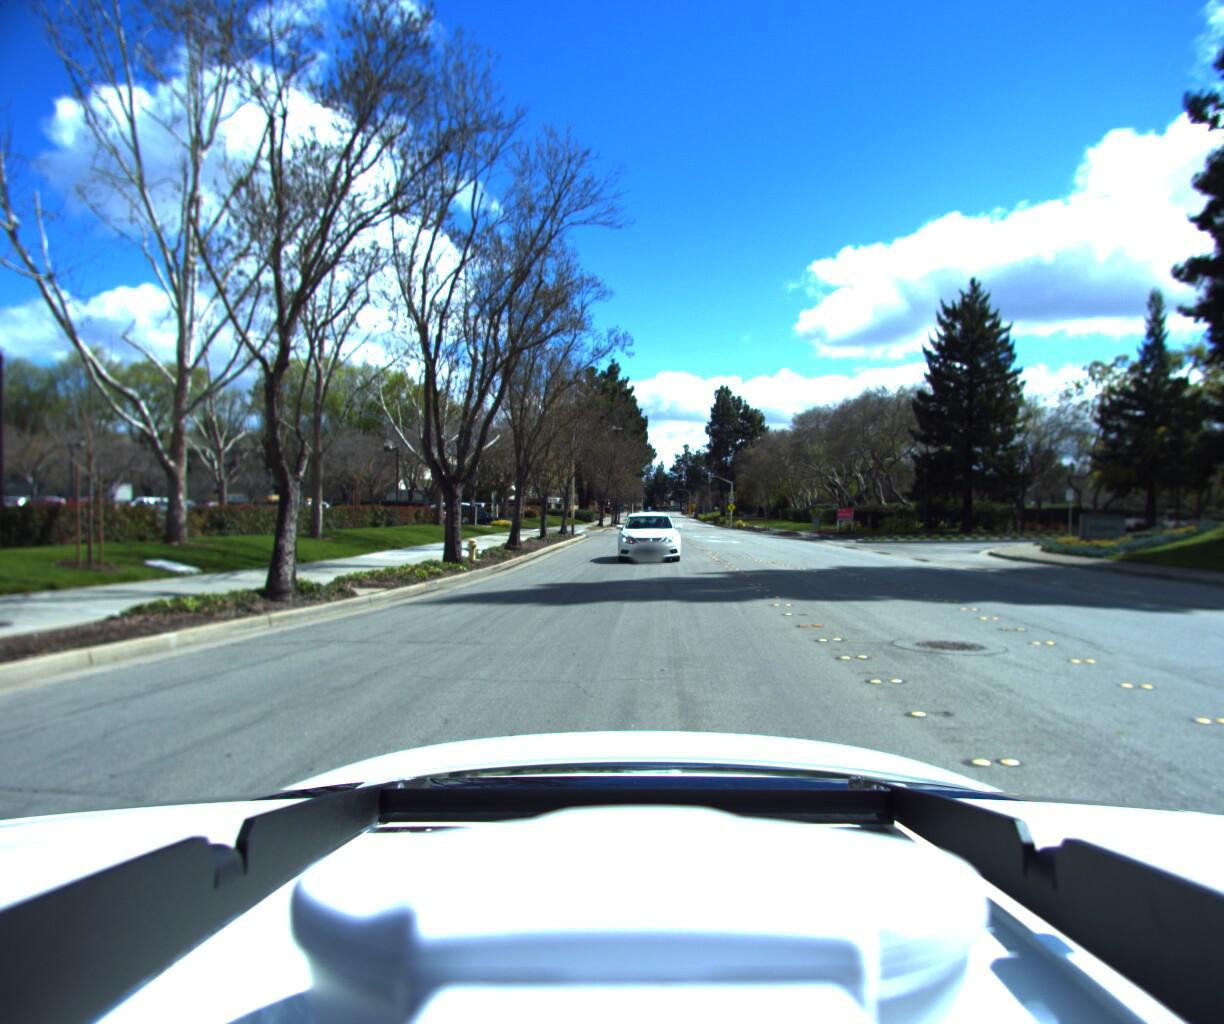car: (617, 517, 680, 573)
